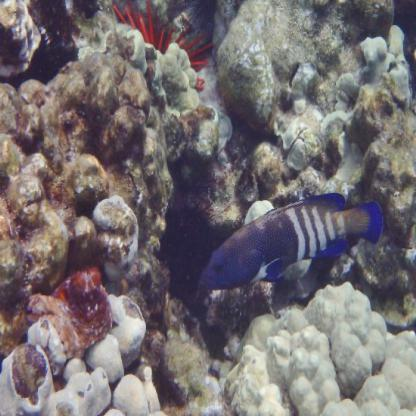grouper: (199, 187, 385, 295)
